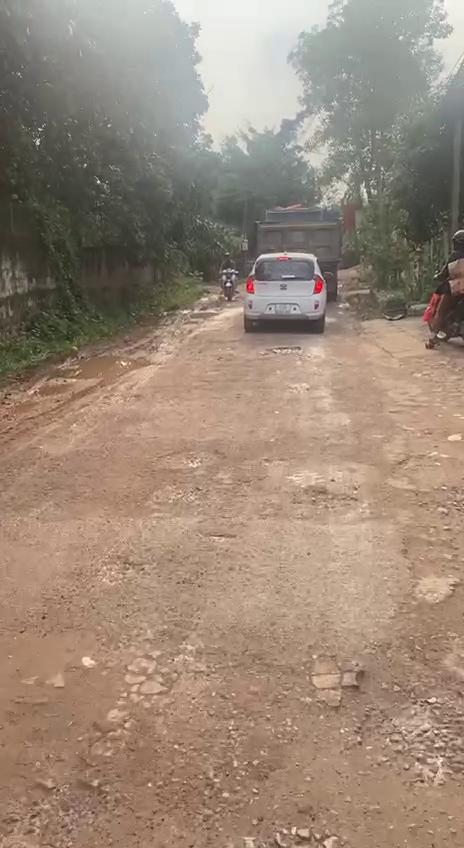pothole: (389, 454, 464, 664), (365, 661, 464, 791), (0, 750, 118, 848), (147, 445, 234, 475), (284, 486, 364, 514), (100, 552, 138, 584), (260, 342, 304, 360)
